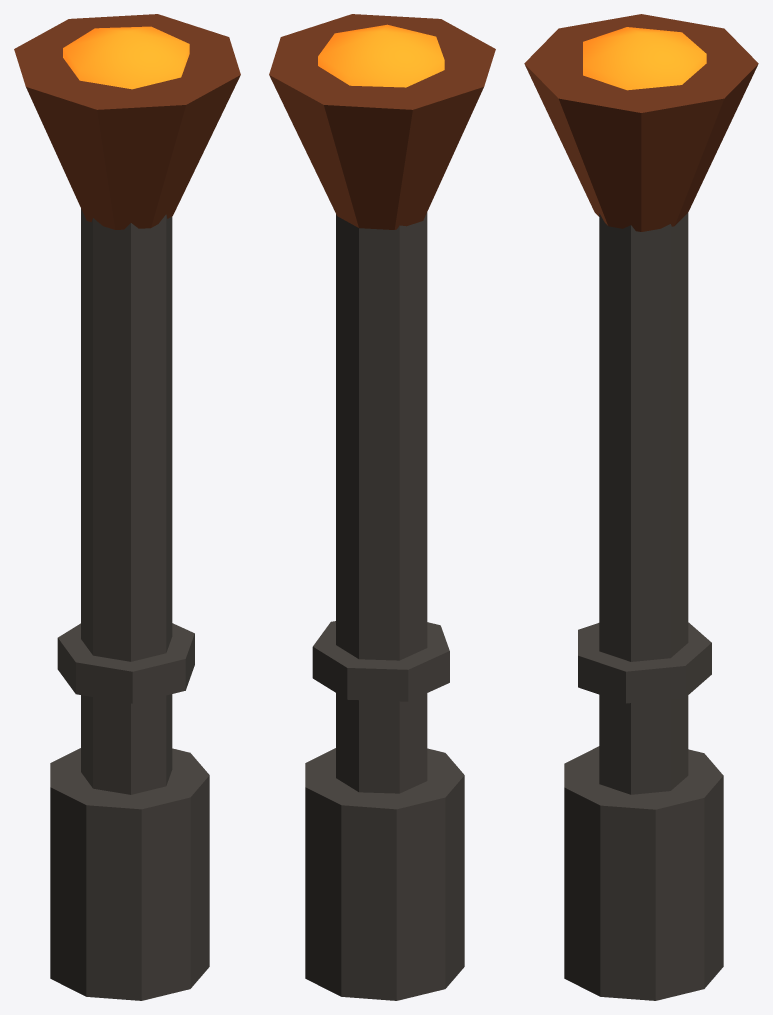
The model's file is nozzle.glb.
3 views of the same model, side by side, from view 1: azimuth 30°, elevation 25°; view 2: azimuth 150°, elevation 25°; view 3: azimuth 270°, elevation 25° (orthographic).
Parts seen in each view (by area): view 1: part.nozzle; view 2: part.nozzle; view 3: part.nozzle.
Part boxes in pixels (box(x1,y1,x2,y2)): part.nozzle: box(14, 14, 240, 1000); part.nozzle: box(269, 14, 495, 1000); part.nozzle: box(524, 14, 758, 1000).
Size of the model in its own units: 0.2 by 0.8784 by 0.2.
